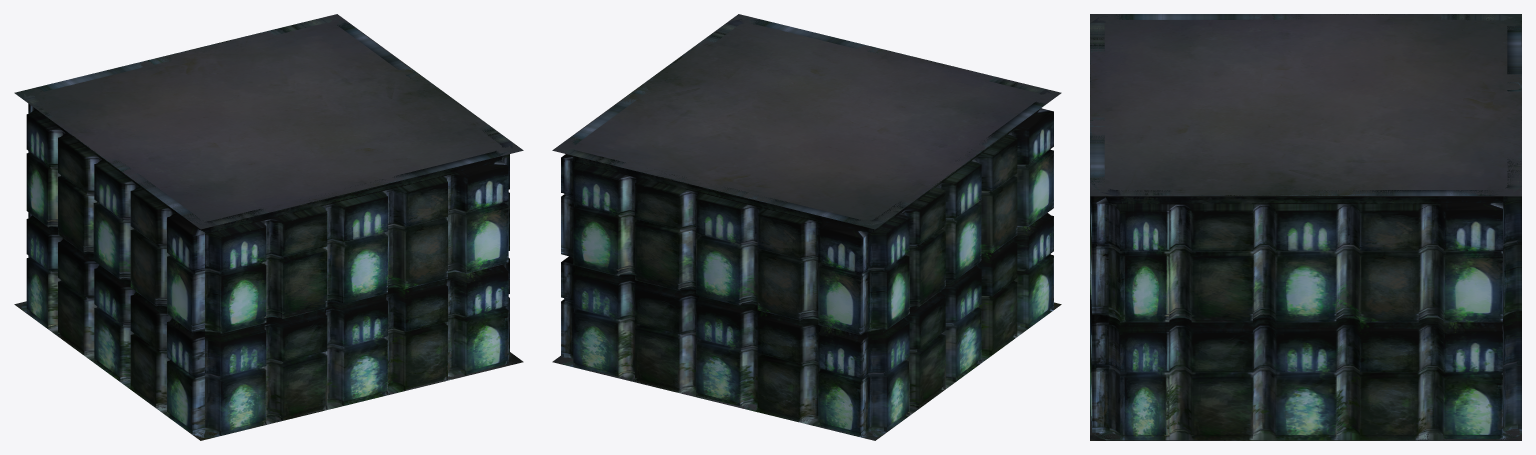
File: stage02.fbx
The picture shows the model from 3 angles, left to right: view 1: azimuth 30°, elevation 25°; view 2: azimuth 150°, elevation 25°; view 3: azimuth 270°, elevation 25°; orthographic projection. The views are drawn at different scales.
Parts seen in each view (by area): view 1: stage02; view 2: stage02; view 3: stage02.
Boxes of the visible parts, box(x1,y1,x2,y2) form: stage02: box(14, 14, 523, 440); stage02: box(552, 14, 1061, 440); stage02: box(1090, 14, 1521, 440).
Bounding box in the file's own units: 24 × 15 × 24.
Materials: 1 (1 with a texture image).
